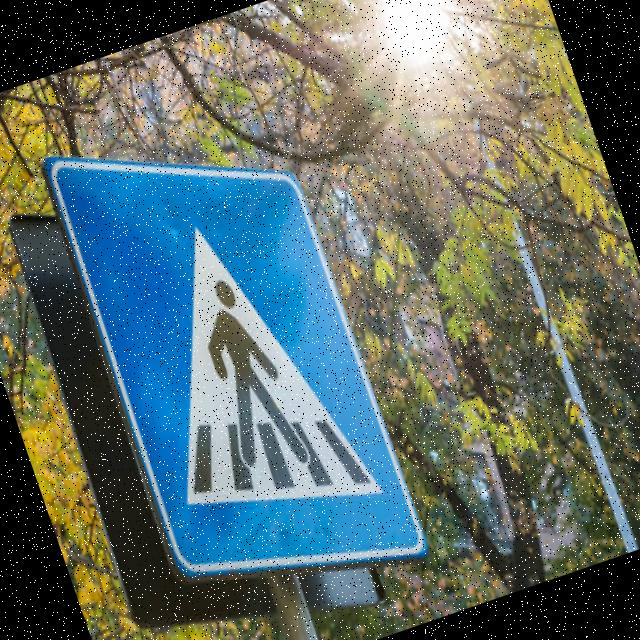crosswalk: (24, 86, 441, 640)
